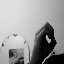o: (32, 21, 58, 54)
